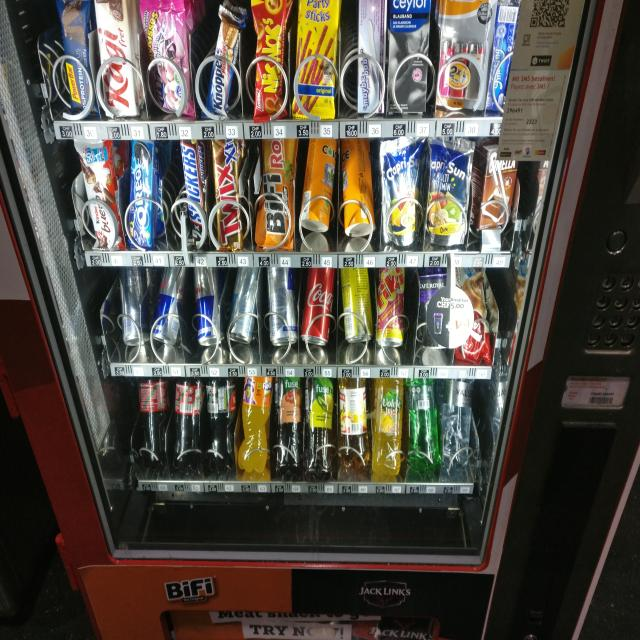7days_croissantschoko_packung_80_1_0000000000003: (454, 267, 492, 362)
bifi_roll__50__4251097402635: (254, 136, 296, 247)
bueno___43__4008400320328: (74, 137, 125, 248)
c-swiss_dosenabisicetea__33__9120025930135: (339, 136, 376, 236), (303, 134, 337, 231)
caferoyal_classicmacchiato__33__7617014164487: (419, 272, 450, 352)
caprisun_multivitamin__20__4000177605004: (379, 136, 424, 245), (427, 135, 469, 245)
coke__dose_33__54491472: (302, 266, 334, 346)
coke__flasche_50__54491472: (132, 377, 170, 468), (170, 377, 205, 471)
coke_zero_flasche_50__5449000131836: (204, 376, 242, 474)
comella_schokodrink__33__7613100037253: (480, 144, 514, 232)
fanta___50__40822938: (237, 372, 274, 474)
fini_jellykisses_packung_80_1_8410525116704: (141, 0, 190, 113)
fuse_lemon__50__5449000235947: (303, 374, 336, 478)
fuse_lemon_dose_33__5449000235947: (339, 264, 374, 346)
fuse_peach__50__5449000236623: (274, 374, 304, 476)
kagi___50__7610046000259: (94, 0, 146, 117)
knoppers_riegel____4035800488808: (197, 4, 240, 114)
lorenz_nicnacs__40__4018077798818: (250, 0, 292, 128)
malburner_partysticks__40__7610200279682: (295, 0, 337, 119)
oreo___66__84100733: (124, 137, 160, 248)
powerbar_proteinplusschoko__55__4029679520028: (55, 0, 97, 116)
ramseier_schorle__50__7610057012456: (337, 374, 373, 474)
redbull___33__90162909: (190, 266, 225, 349), (152, 265, 187, 346), (117, 264, 148, 346)
redbull_light__33__90162800: (228, 265, 263, 344)
snickers___50__5000159461122: (178, 138, 212, 249)
tiki_himbeerbrause_dose_33_1_: (376, 266, 404, 348)
twix___50__5000159459228: (210, 136, 248, 250)
valser_classic__50__76404160: (406, 376, 440, 470)
valser_still__50__7610335002575: (441, 376, 473, 468)
volvic_pinapple__50__305764335648: (372, 376, 406, 476)
